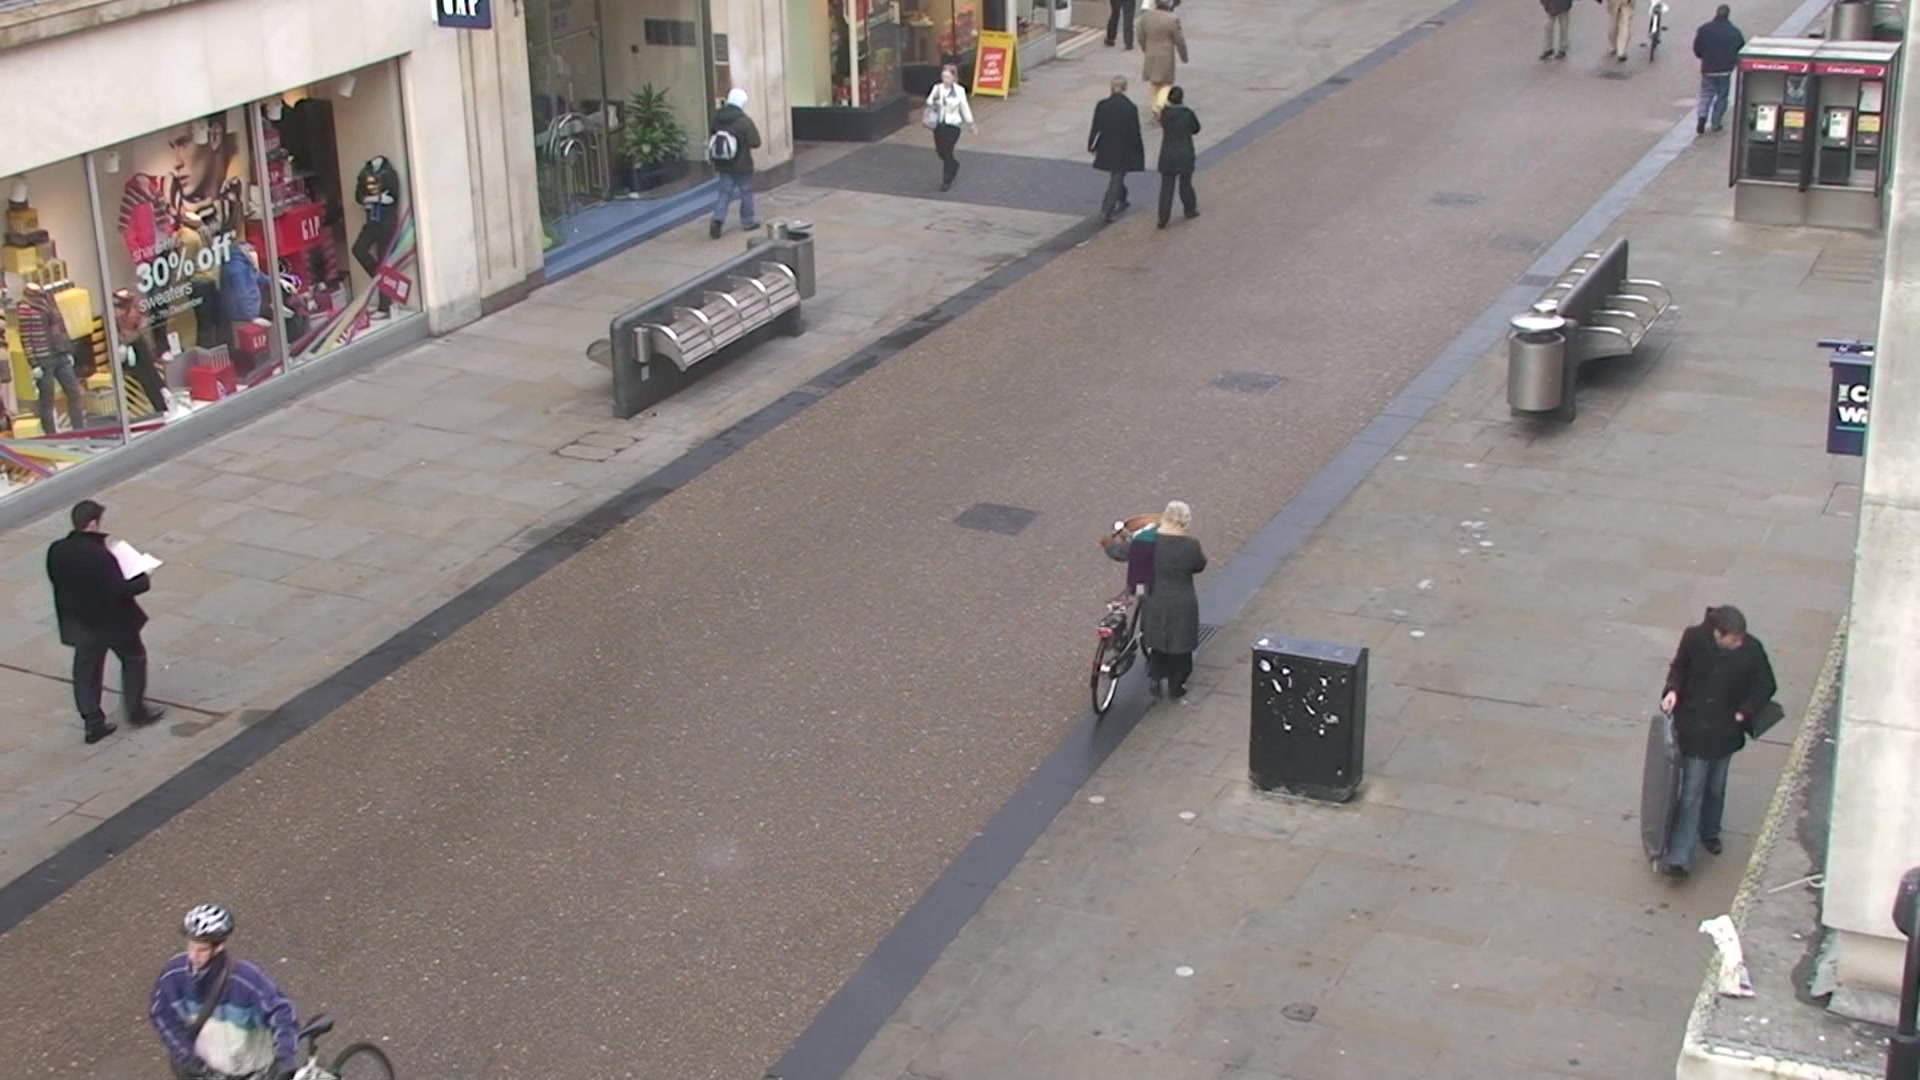person: (1659, 602, 1787, 888), (47, 501, 166, 748), (1101, 501, 1206, 704), (705, 86, 765, 240), (1086, 75, 1145, 226), (1693, 1, 1747, 142), (1155, 85, 1205, 234), (925, 62, 978, 194)
